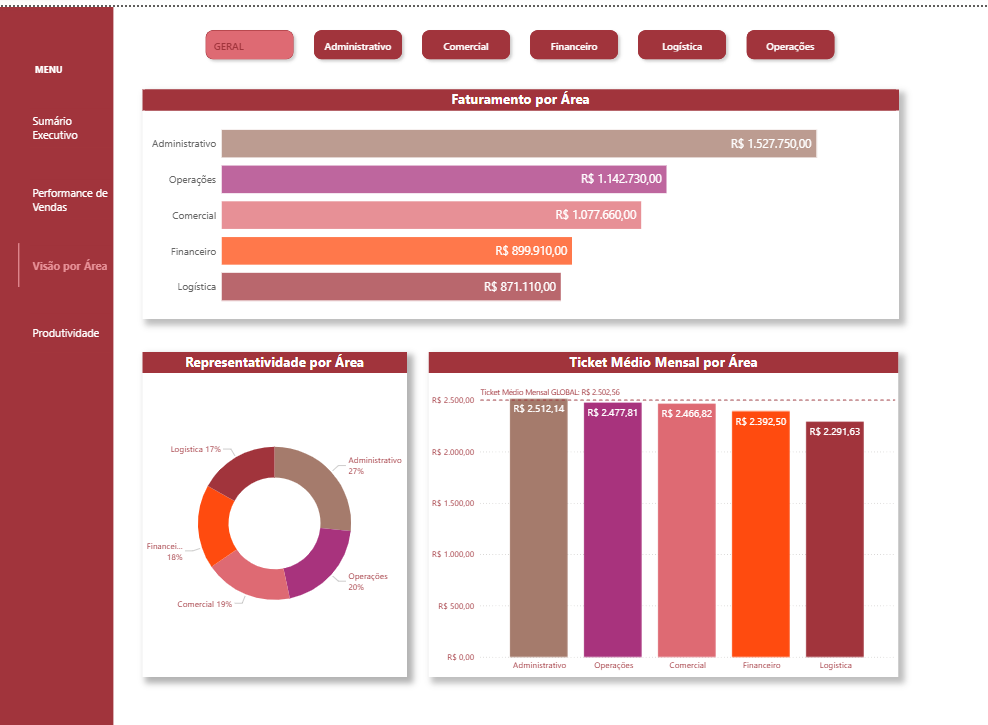

This screenshot's page, from the dashboard's own definition file:
{"tool":"powerbi","page":{"name":"Visão por Área","canvas":[1600,1150],"ordinal":2},"visuals":[{"type":"shape","box":[0,0,181.4,1191.4],"z":0},{"type":"advancedSlicerVisual","fields":{"Values":["Ranking_top5_vendas.Area"]},"box":[312.9,20,1040,81.4],"z":1000},{"type":"clusteredBarChart","title":"Faturamento por Área","fields":{"Category":["Ranking_top5_vendas.Area"],"Y":["_TodasMedidas.Soma Valor Total Contratos - faturamento"]},"box":[227.1,132.9,1210,367.1],"z":2000},{"type":"donutChart","title":"Representatividade por Área ","fields":{"Category":["CadastroFuncionarios.Area"],"Y":["_TodasMedidas.Total Contratos Fechados"]},"box":[227.1,552.9,422.9,520],"z":3000},{"type":"clusteredColumnChart","title":"Ticket Médio Mensal por Área ","fields":{"Category":["CadastroFuncionarios.Area"],"Y":["_TodasMedidas.Ticket Médio Mensal"]},"box":[685.7,552.9,751.4,520],"z":4000},{"type":"shape","box":[55.7,78.6,100,44.3],"z":5000},{"type":"actionButton","box":[48.6,161.4,131.4,62.9],"z":6000},{"type":"shape","box":[20,378.8,20,70],"z":7000},{"type":"actionButton","box":[47.1,275.7,131.4,62.9],"z":8000},{"type":"actionButton","box":[48.6,382.9,131.4,62.9],"z":9000},{"type":"actionButton","box":[47.1,490,131.4,62.9],"z":10000}]}

Visuals, with their boxes on the page's 1600x1150 design canvas (x1, y1, x2, y2). These are canvas units, not pixel positions in the 988x725 screenshot, which may show the page scaled, cropped or inside an application window:
shape: rect(0, 0, 181, 1191)
advancedSlicerVisual - Ranking_top5_vendas.Area: rect(313, 20, 1353, 101)
"Faturamento por Área" clusteredBarChart: rect(227, 133, 1437, 500)
"Representatividade por Área " donutChart: rect(227, 553, 650, 1073)
"Ticket Médio Mensal por Área " clusteredColumnChart: rect(686, 553, 1437, 1073)
shape: rect(56, 79, 156, 123)
actionButton: rect(49, 161, 180, 224)
shape: rect(20, 379, 40, 449)
actionButton: rect(47, 276, 178, 339)
actionButton: rect(49, 383, 180, 446)
actionButton: rect(47, 490, 178, 553)
